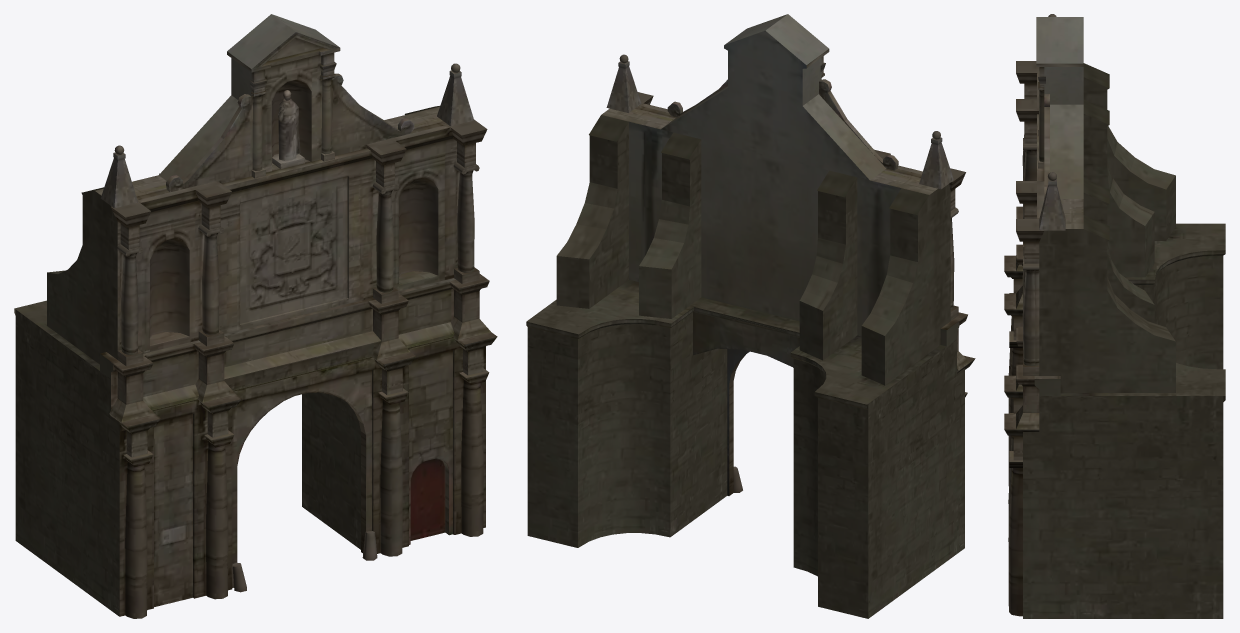
The model's file is gate.glb.
3 views of the same model, side by side, from view 1: azimuth 30°, elevation 25°; view 2: azimuth 150°, elevation 25°; view 3: azimuth 270°, elevation 25° (orthographic). The views are drawn at different scales.
Parts seen in each view (by area): view 1: porte_main_0; view 2: porte_main_0; view 3: porte_main_0.
Boxes of the visible parts, box(x1,y1,x2,y2) form: porte_main_0: box(14, 14, 497, 618); porte_main_0: box(526, 14, 975, 618); porte_main_0: box(1004, 14, 1225, 618).
Size of the model in its own units: 8.73 by 12.07 by 4.7.
Materials: 1 (1 with a texture image).
